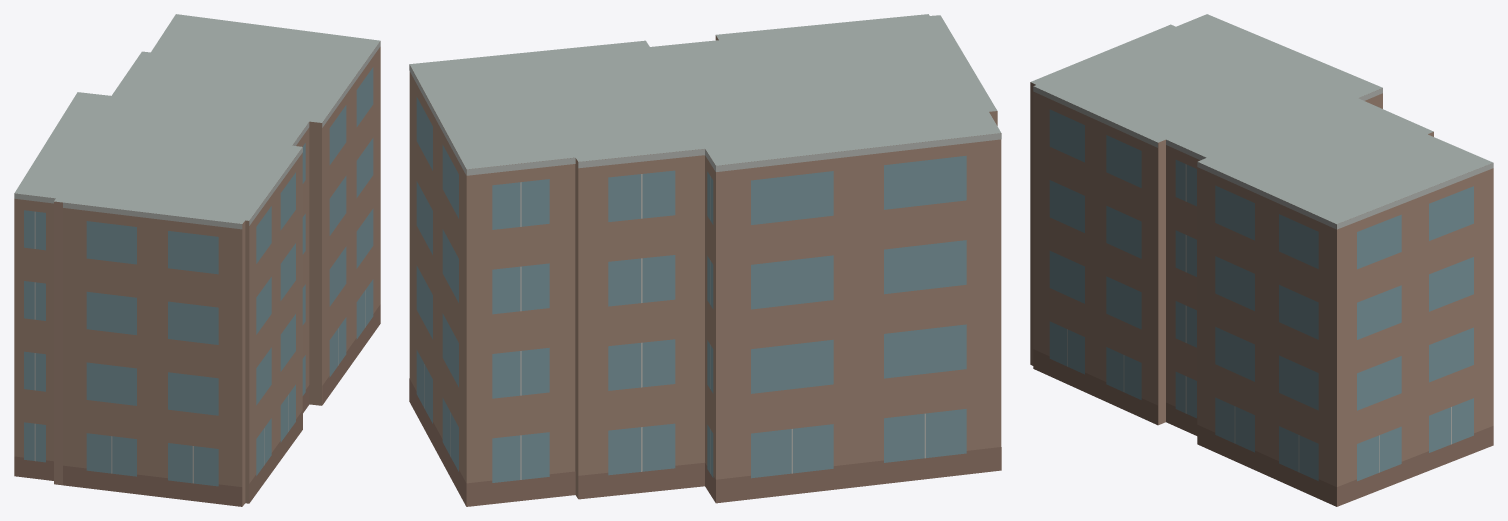
File: survey-upis-32830408.glb
3 views of the same model, side by side, from view 1: azimuth 30°, elevation 25°; view 2: azimuth 150°, elevation 25°; view 3: azimuth 270°, elevation 25° (orthographic). The views are drawn at different scales.
Visible parts, largest first — view 1: survey-upis-32830408.tmp; view 2: survey-upis-32830408.tmp; view 3: survey-upis-32830408.tmp.
Part boxes in pixels (box(x1,y1,x2,y2)): survey-upis-32830408.tmp: box(14, 14, 380, 506); survey-upis-32830408.tmp: box(409, 14, 1001, 506); survey-upis-32830408.tmp: box(1030, 14, 1493, 506).
Bounding box in the file's own units: 20.59 × 12.9 × 19.17.
